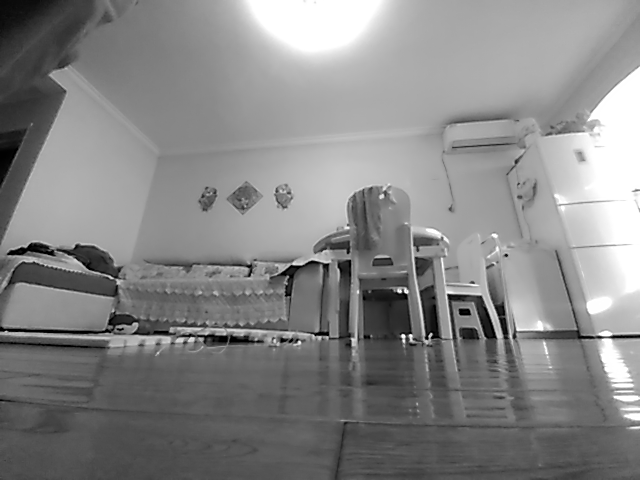carpet: (1, 328, 328, 350)
